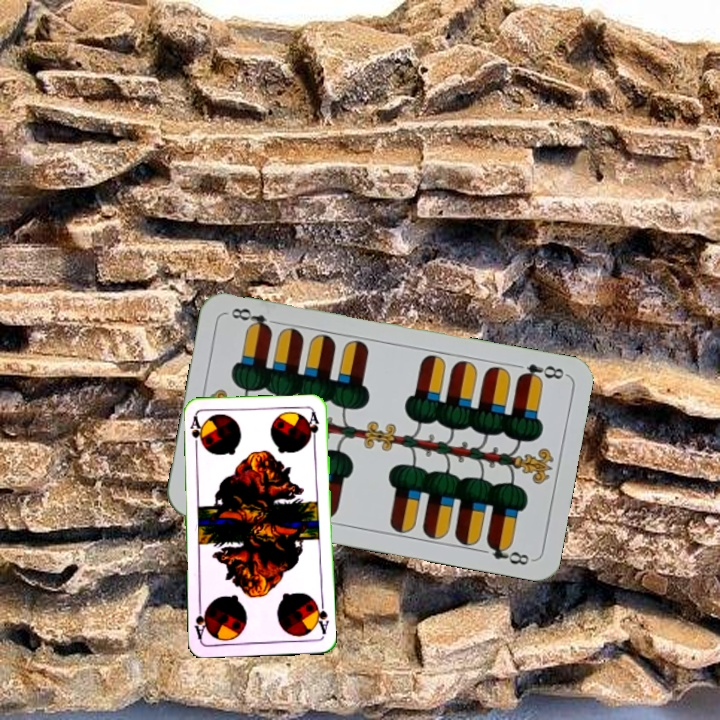E8: (513, 360, 568, 385)
SA: (311, 597, 331, 637), (186, 412, 205, 453)
